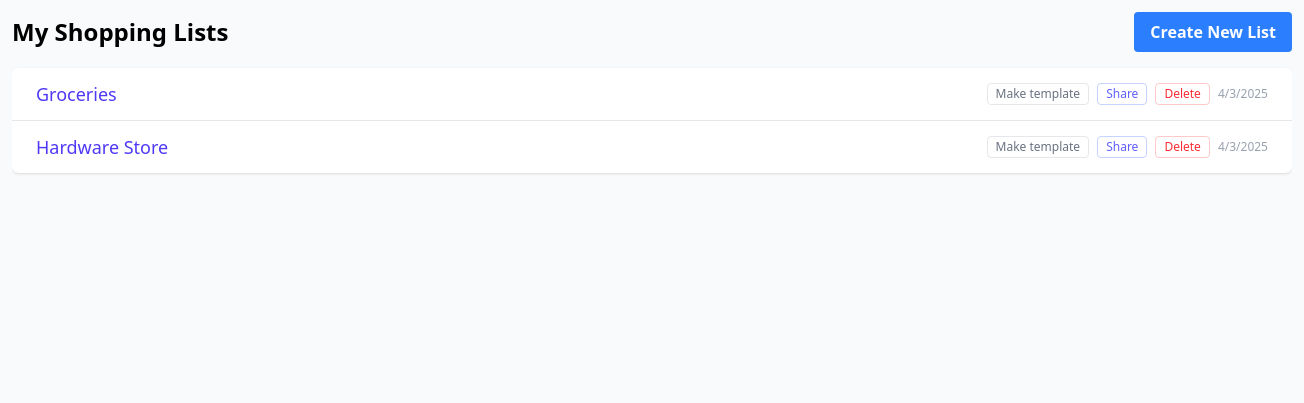
Test case: ShoppingListsPage Component › should display an error when adding a list fails with network error
Expected: the link "Groceries" is shown, [36,80,117,108]
Click the button "Create New List". click: [1213, 32]
box: [1134,12,1292,52]
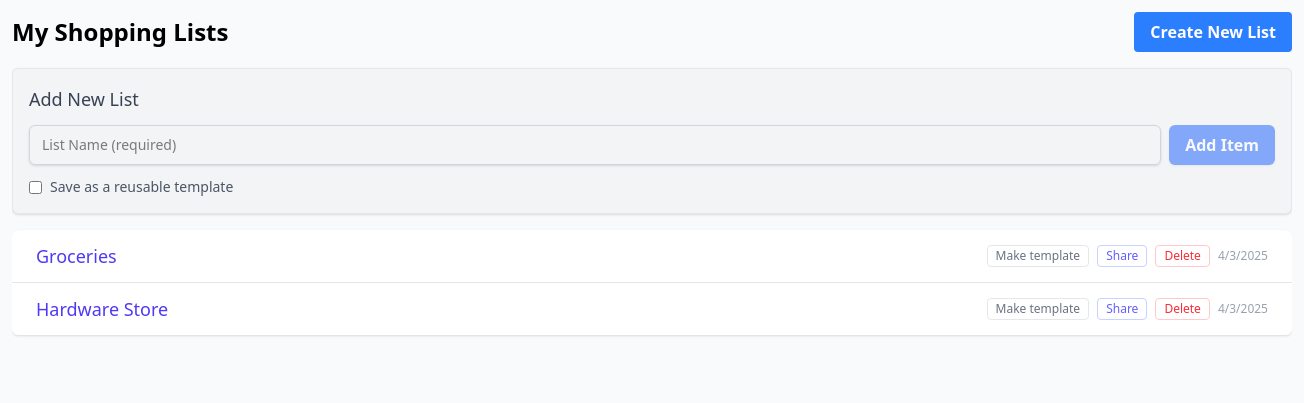
Note: Fill in the form
Type "New List" into the field named "New list name". click: [595, 145]
box: [29,125,1161,165]
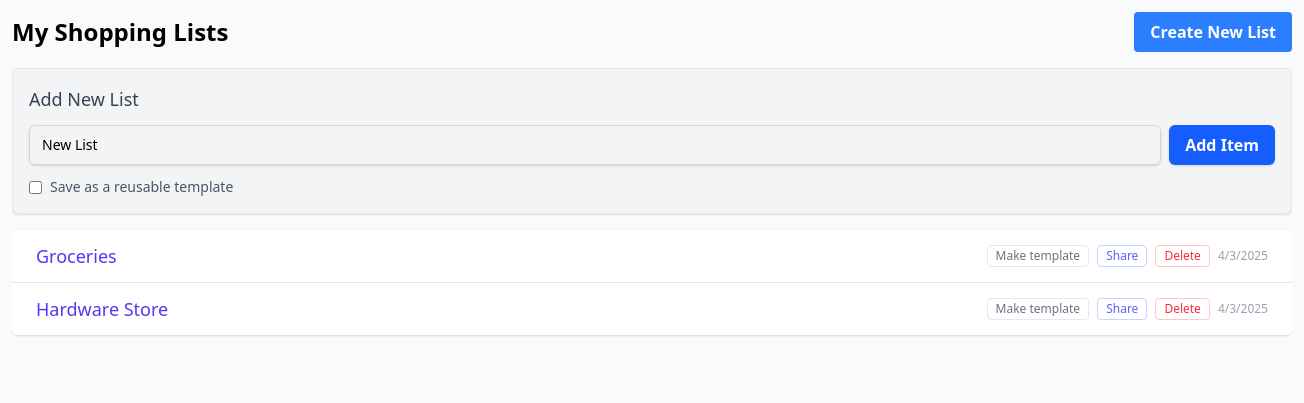
Note: Submit the form
Click the button "Add Item". click: [1222, 145]
box: [1169,125,1275,165]
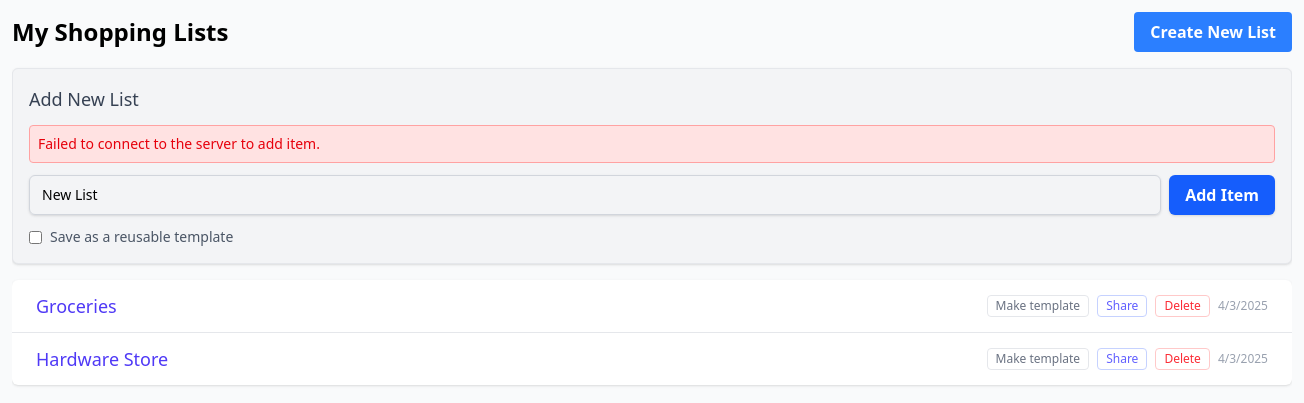
Result: the text "Failed to connect to the server to add item." is shown at [29,125,1275,163]
